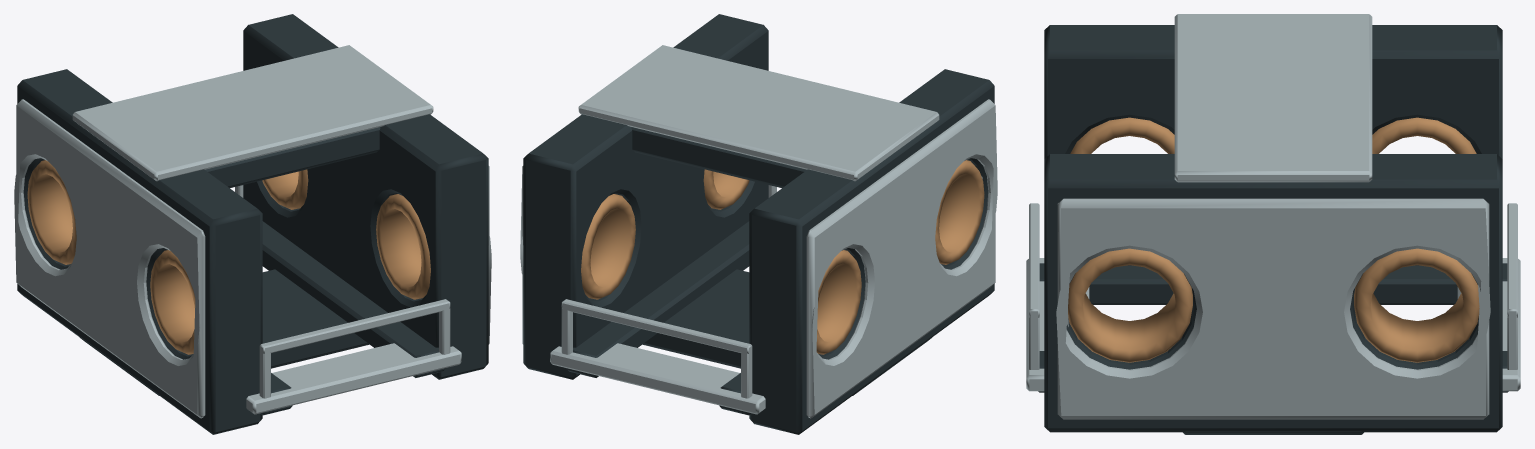
Rendered from receiver-jaw.glb.
3 views of the same model, side by side, from view 1: azimuth 30°, elevation 25°; view 2: azimuth 150°, elevation 25°; view 3: azimuth 270°, elevation 25° (orthographic). The views are drawn at different scales.
Visible parts, largest first — view 1: receiver_jaw__graphite, receiver_jaw__titanium, receiver_jaw__copper; view 2: receiver_jaw__graphite, receiver_jaw__titanium, receiver_jaw__copper; view 3: receiver_jaw__titanium, receiver_jaw__graphite, receiver_jaw__copper.
Part boxes in pixels (<box>): receiver_jaw__graphite: <box>17,14,488,434</box>; receiver_jaw__titanium: <box>14,45,491,418</box>; receiver_jaw__copper: <box>27,160,430,354</box>; receiver_jaw__graphite: <box>523,14,994,434</box>; receiver_jaw__titanium: <box>520,45,997,418</box>; receiver_jaw__copper: <box>581,160,984,354</box>; receiver_jaw__titanium: <box>1026,14,1520,419</box>; receiver_jaw__graphite: <box>1038,25,1508,434</box>; receiver_jaw__copper: <box>1068,117,1479,362</box>.
Size of the model in its own units: 44 by 32.8 by 55.
